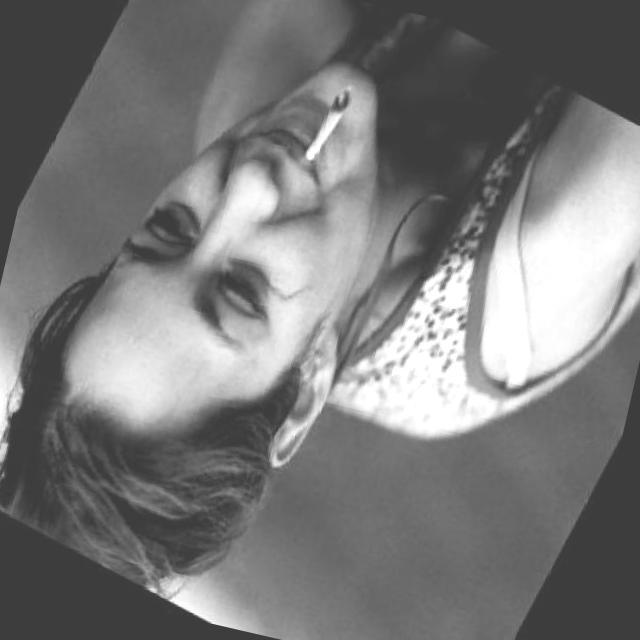smoke: (296, 76, 360, 172)
